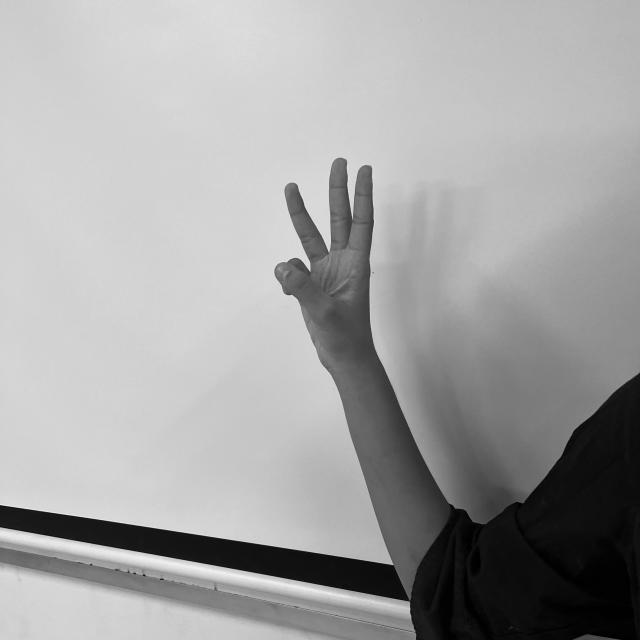Letra W: (270, 151, 384, 360)
